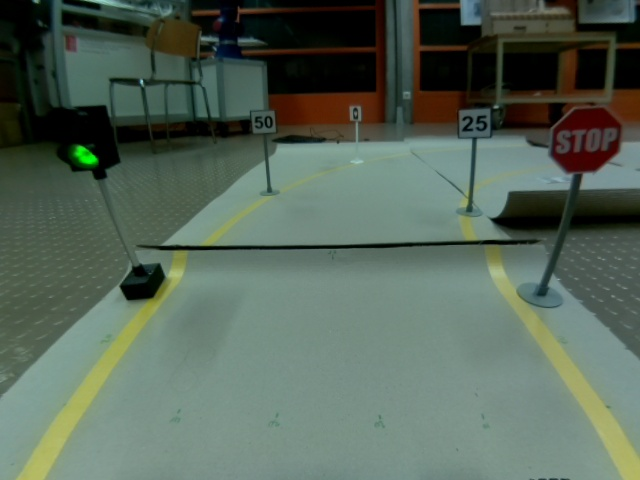battery: (348, 105, 362, 120)
speed25: (457, 107, 492, 139)
speed50: (249, 109, 278, 134)
stop: (548, 106, 624, 174)
trafficLightGreen: (47, 104, 120, 173)
